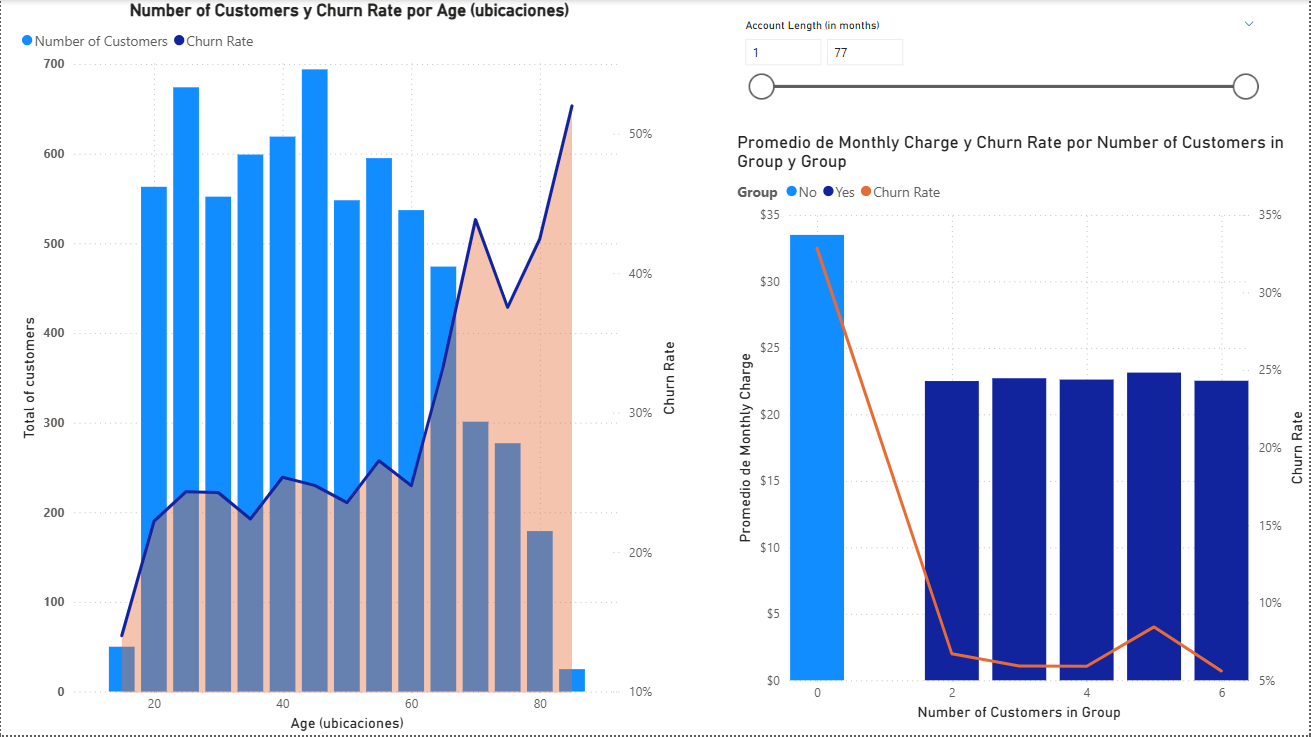

What the dashboard file says about the page in this screenshot:
{"tool":"powerbi","page":{"name":"Age groups","canvas":[1280,720],"ordinal":1},"visuals":[{"type":"lineStackedColumnComboChart","fields":{"Category":["Databel - Data.Age (ubicaciones)"],"Y2":["Databel - Data.Churn Rate"],"Y":["Databel - Data.Number of Customers"]},"box":[14.7,0,651.8,720.2],"z":0},{"type":"lineStackedColumnComboChart","fields":{"Category":["Databel - Data.Number of Customers in Group"],"Y":["Avg(Databel - Data.Monthly Charge)"],"Series":["Databel - Data.Group"],"Y2":["Databel - Data.Churn Rate"]},"box":[715.4,128.4,564.9,580.8],"z":1000},{"type":"slicer","fields":{"Values":["Databel - Data.Account Length (in months)"]},"box":[714.8,13.2,523.2,104.4],"z":2000}]}

Visuals, with their boxes in screenshot pixels (x1, y1, x2, y2), scaled from the page's 1280x720 canvas onto the 1311x737 screenshot:
lineStackedColumnComboChart - Databel - Data.Age (ubicaciones) x Databel - Data.Churn Rate: region(15, 0, 683, 736)
lineStackedColumnComboChart - Databel - Data.Number of Customers in Group x Avg(Databel - Data.Monthly Charge): region(733, 131, 1310, 726)
slicer - Databel - Data.Account Length (in months): region(732, 14, 1268, 120)
